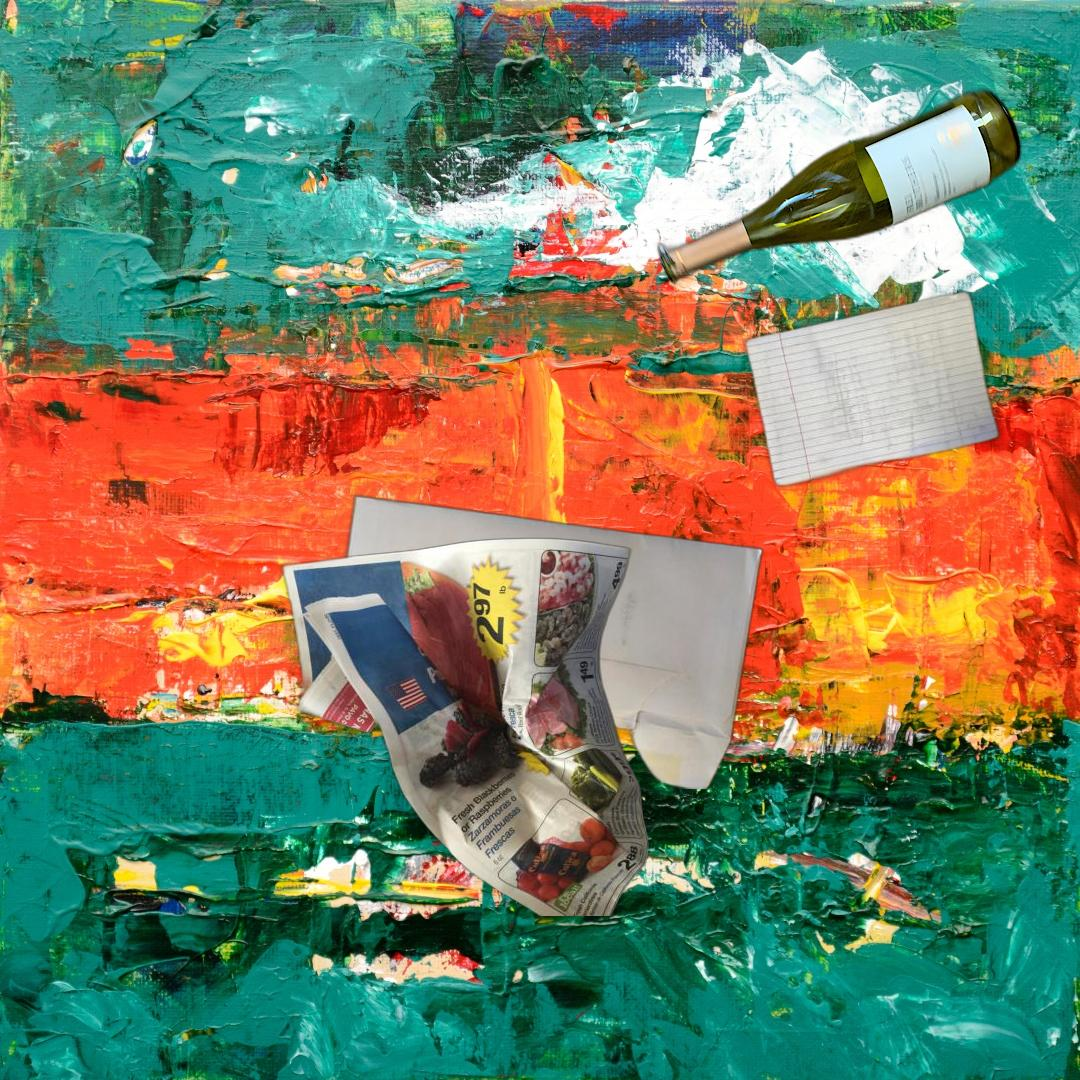glass: (653, 83, 1025, 289)
paper: (277, 534, 653, 916), (314, 491, 767, 789), (740, 287, 1003, 490)
